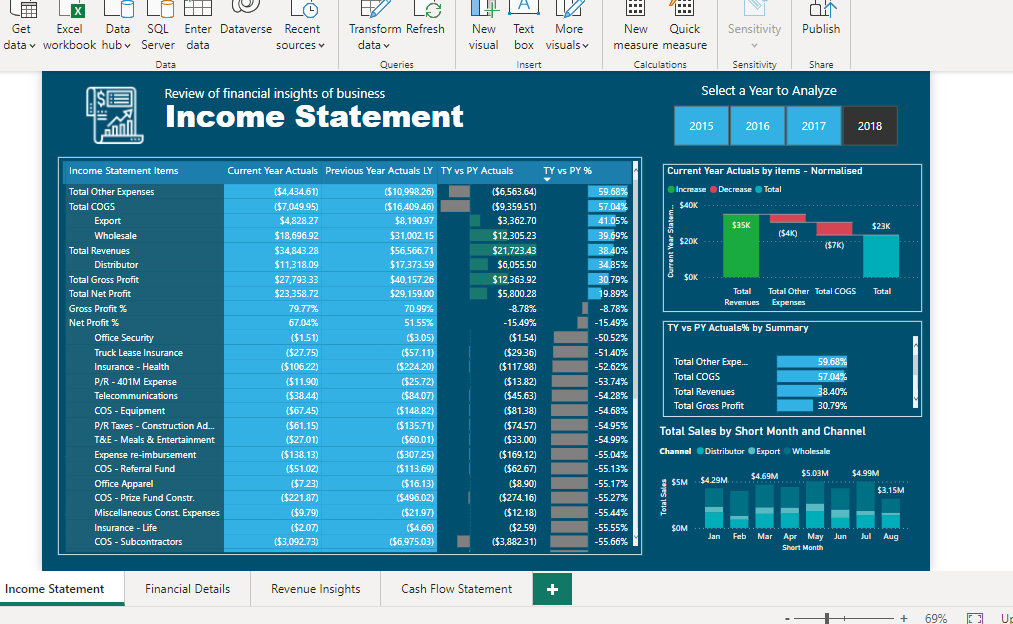

Layout of this report page (visuals, bound fields, positions):
{"tool":"powerbi","page":{"name":"Income Statement","canvas":[1280,720],"ordinal":1},"visuals":[{"type":"slicer","fields":{"Values":["Dates.Year"]},"box":[884.2,43.2,371.5,70.6],"z":0},{"type":"tableEx","fields":{"Values":["Income Statement Template.Row Index","Income Statement Template.Income Statement Items","Income Analysis.Selected Year Actuals","Income Analysis.Selected Year Actuals LY","Income Analysis.Current vs Previous Actuals","Income Analysis.TY vs PY %"]},"box":[23,123.8,841,573.1],"z":1000},{"type":"textbox","box":[171.4,28.8,542.9,76.3],"z":2000},{"type":"image","box":[57.6,14.4,95,99.4],"z":3000},{"type":"textbox","box":[944.6,10.1,249.1,37.4],"z":4000},{"type":"textbox","box":[171.4,14.4,380.2,37.4],"z":5000},{"type":"columnChart","fields":{"Category":["Dates.Short Month"],"Y":["Key Measures.Total Sales"],"Series":["Sales.Channel"]},"box":[884.2,508.3,371.5,188.6],"z":6000},{"type":"tableEx","title":"TY vs PY Actuals% by Summary","fields":{"Values":["Income Statement Template.Row Index","Income Statement Template.Income Statement Items","Income Analysis.TY vs PY %"]},"box":[894.2,360,373,138.2],"z":7000},{"type":"waterfallChart","title":"Current Year Actuals by items - Normalised","fields":{"Category":["Income Statement Template.Income Statement Items"],"Y":["Income Analysis.Current Year Actuals"]},"box":[894.2,133.9,373,213.1],"z":8000}]}

Visuals, with their boxes on the page's 1280x720 design canvas (x1, y1, x2, y2). These are canvas units, not pixel positions in the 1013x624 screenshot, which may show the page scaled, cropped or inside an application window:
slicer - Dates.Year: x1=884, y1=43, x2=1256, y2=114
tableEx - Income Statement Template.Row Index x Income Statement Template.Income Statement Items: x1=23, y1=124, x2=864, y2=697
textbox: x1=171, y1=29, x2=714, y2=105
image: x1=58, y1=14, x2=153, y2=114
textbox: x1=945, y1=10, x2=1194, y2=48
textbox: x1=171, y1=14, x2=552, y2=52
columnChart - Dates.Short Month x Key Measures.Total Sales: x1=884, y1=508, x2=1256, y2=697
"TY vs PY Actuals% by Summary" tableEx: x1=894, y1=360, x2=1267, y2=498
"Current Year Actuals by items - Normalised" waterfallChart: x1=894, y1=134, x2=1267, y2=347
